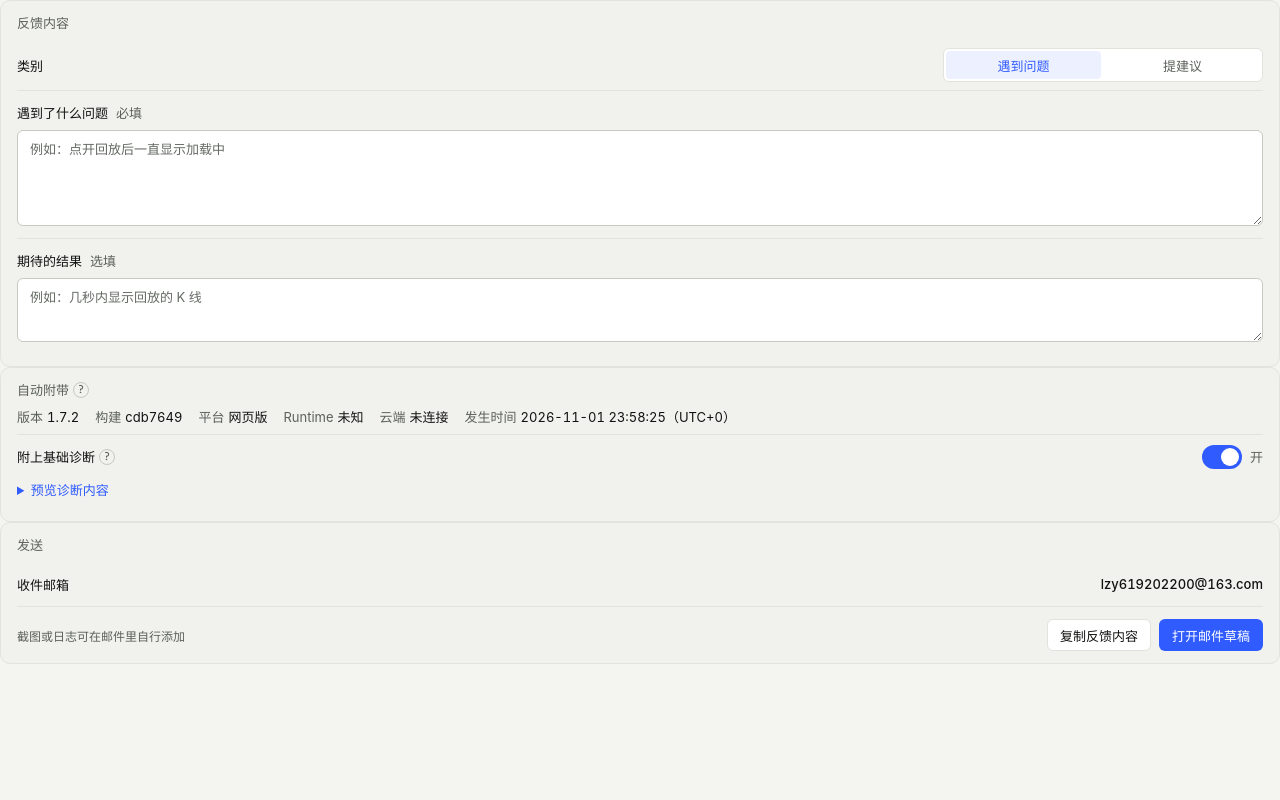
Scenario: opening the draft reports a request only, and a failed open keeps the input with a manual fallback
This screenshot has width=1280, height=800.
In the text box labelled "遇到了什么问题": (640, 178) top-left (17, 130), bottom-right (1263, 226), type "语音没声音"
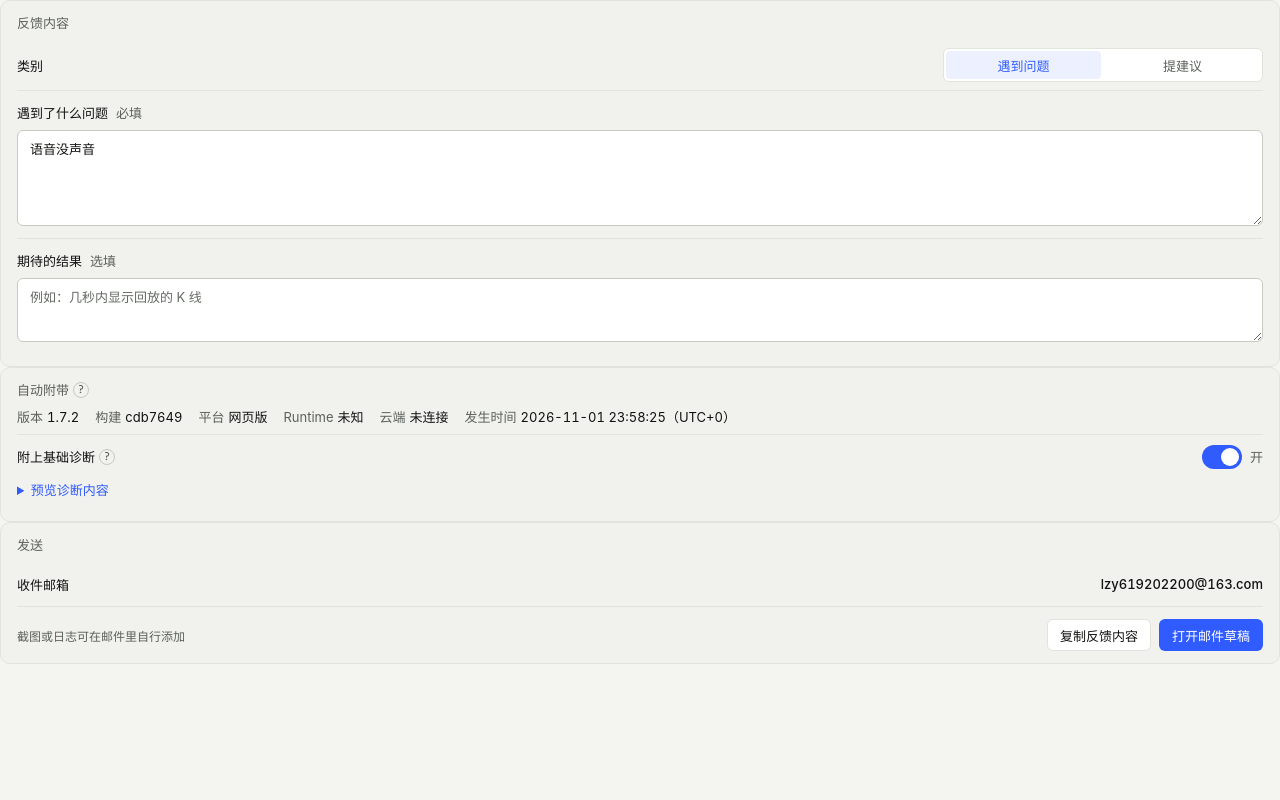
In the text box labelled "期待的结果": (640, 310) top-left (17, 278), bottom-right (1263, 342), type "能听到回复"
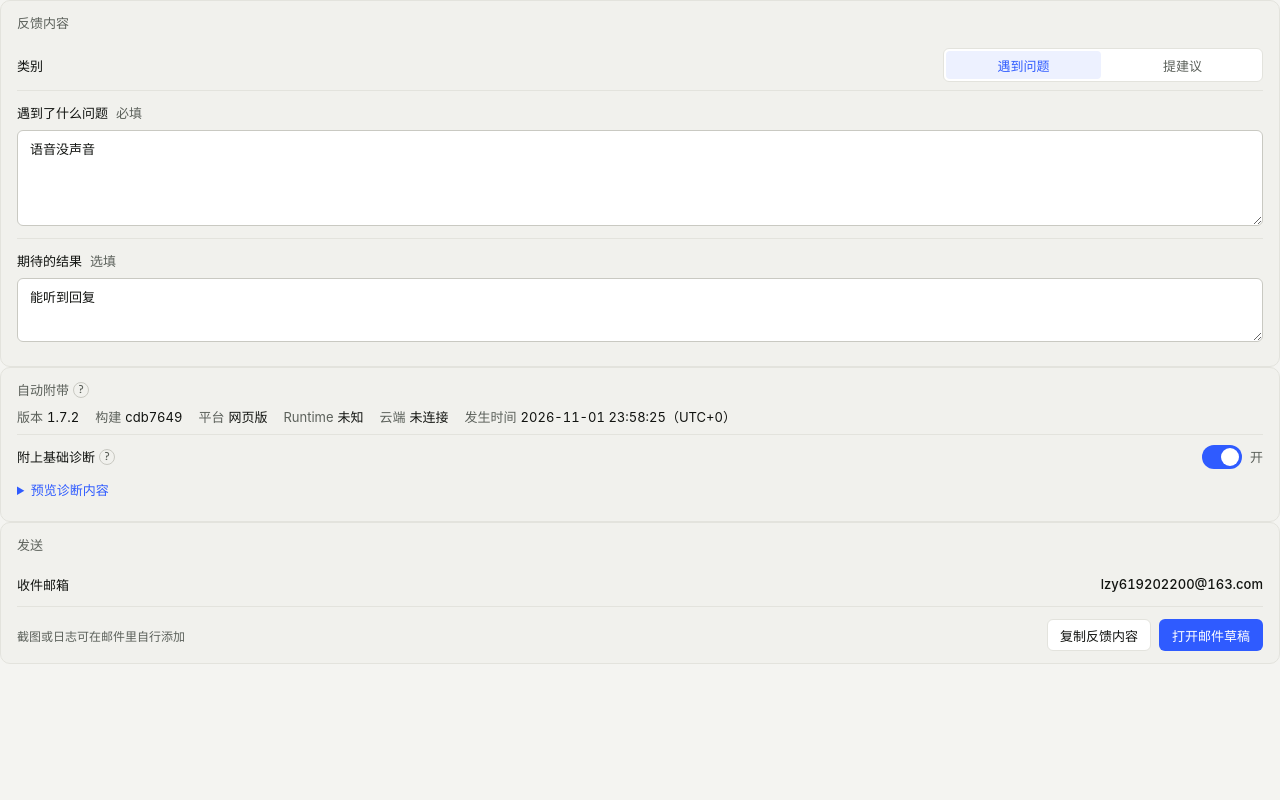
Click the button "打开邮件草稿": (1211, 635) top-left (1159, 619), bottom-right (1263, 651)
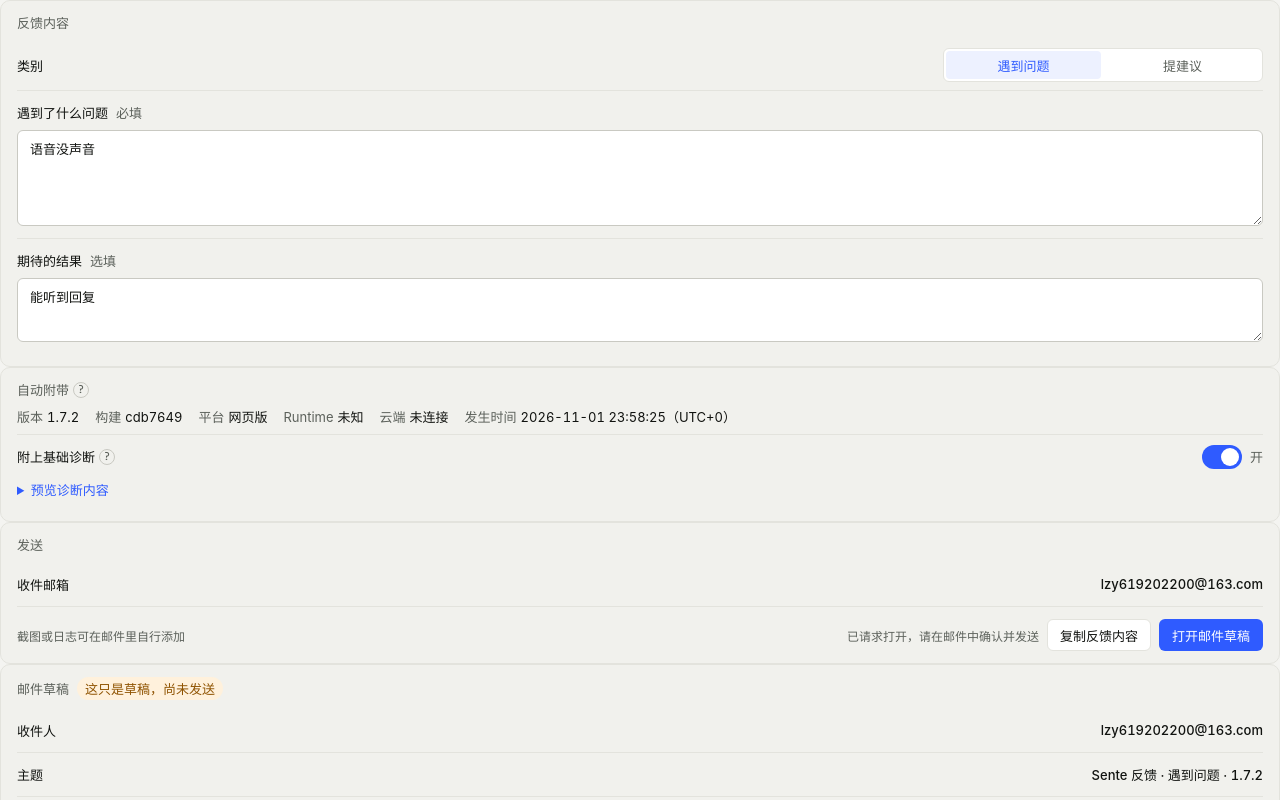
expect the message reads "已请求打开，请在邮件中确认并发送": met, box top-left (847, 628), bottom-right (1039, 644)
expect the text "这只是草稿，尚未发送" is shown: met, box top-left (77, 677), bottom-right (223, 700)
Click the button "打开邮件草稿": (1211, 635) top-left (1159, 619), bottom-right (1263, 651)
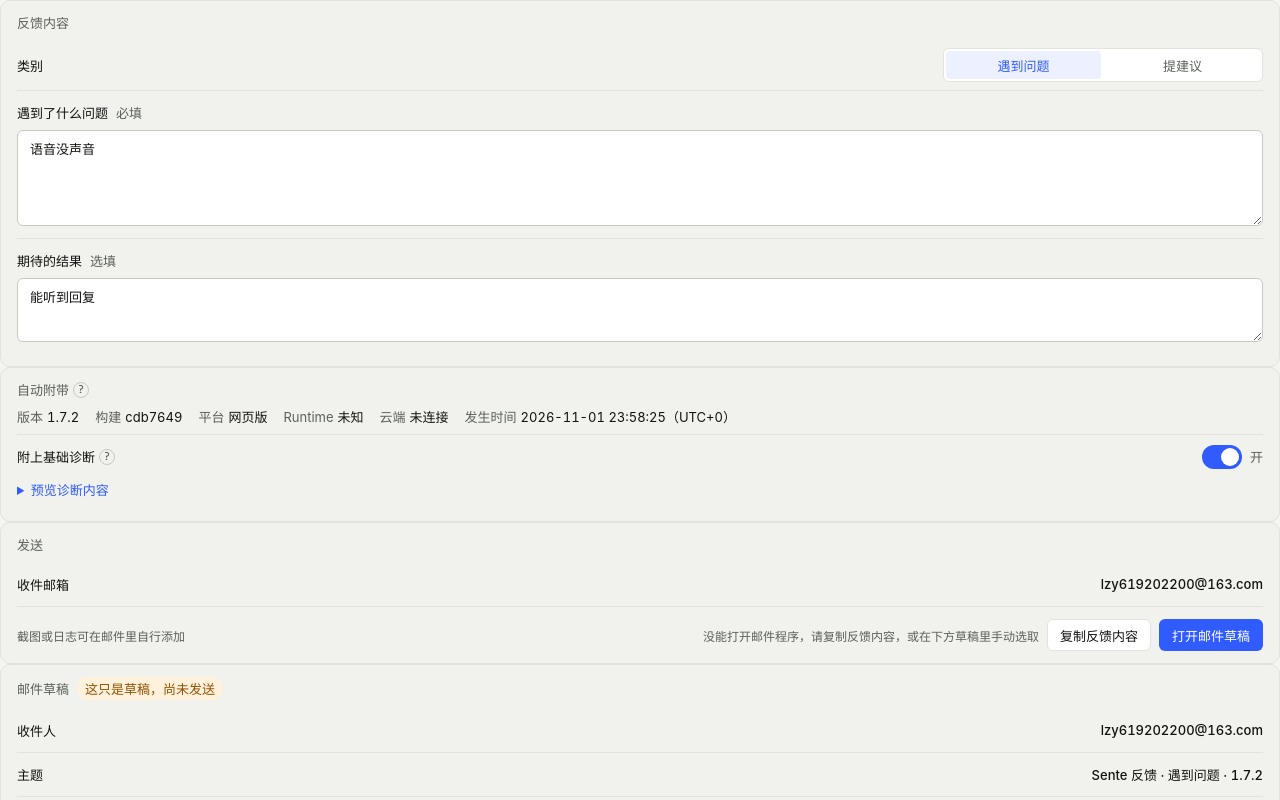
expect the button "复制反馈内容" is enabled: met, box top-left (1047, 619), bottom-right (1151, 651)
expect the message shows "没能打开邮件程序": met, box top-left (703, 628), bottom-right (1039, 644)
